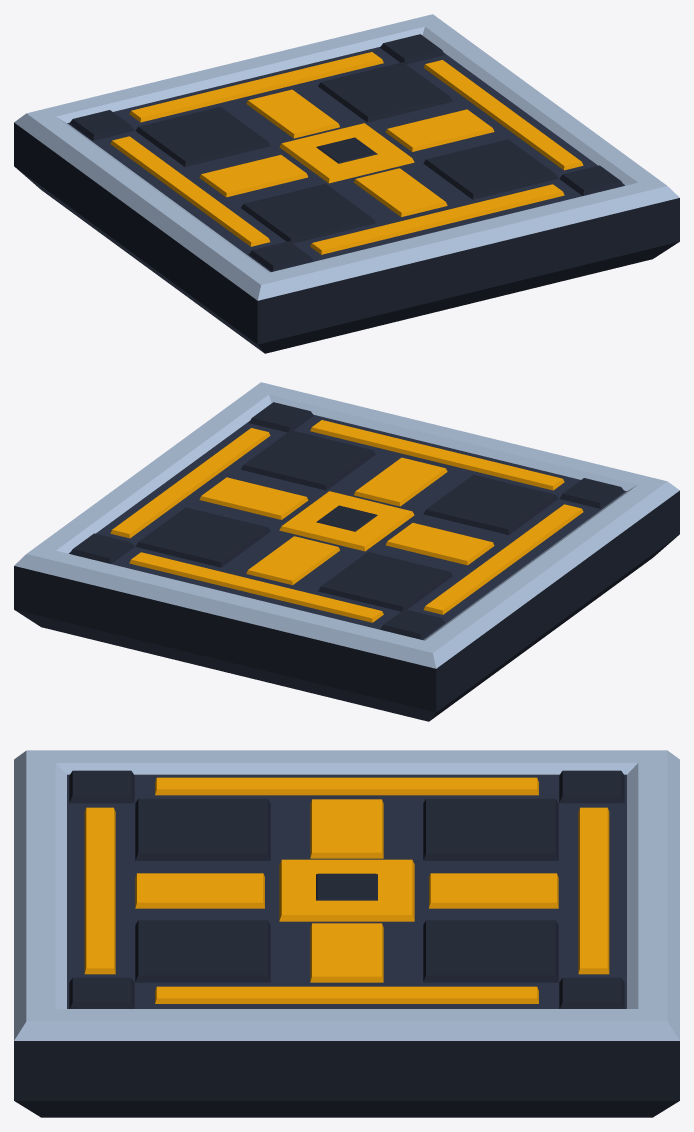
File: SM_ArenaTile_02_Warning.obj
The picture shows the model from 3 angles, top to bottom: view 1: azimuth 30°, elevation 25°; view 2: azimuth 150°, elevation 25°; view 3: azimuth 270°, elevation 25°; orthographic projection. The views are drawn at different scales.
Visible parts, largest first — view 1: SM_ArenaTile_02_Warning__MAT_DarkNeutral, SM_ArenaTile_02_Warning__MAT_LightTrim, SM_ArenaTile_02_Warning__EMI_Amber, SM_ArenaTile_02_Warning__MAT_AltNeutral; view 2: SM_ArenaTile_02_Warning__MAT_DarkNeutral, SM_ArenaTile_02_Warning__MAT_LightTrim, SM_ArenaTile_02_Warning__EMI_Amber, SM_ArenaTile_02_Warning__MAT_AltNeutral; view 3: SM_ArenaTile_02_Warning__MAT_DarkNeutral, SM_ArenaTile_02_Warning__MAT_LightTrim, SM_ArenaTile_02_Warning__EMI_Amber, SM_ArenaTile_02_Warning__MAT_AltNeutral.
Part boxes in pixels (bbox=[...]): SM_ArenaTile_02_Warning__MAT_DarkNeutral: bbox=[14, 34, 679, 353]; SM_ArenaTile_02_Warning__MAT_LightTrim: bbox=[14, 14, 679, 300]; SM_ArenaTile_02_Warning__EMI_Amber: bbox=[110, 52, 583, 254]; SM_ArenaTile_02_Warning__MAT_AltNeutral: bbox=[67, 46, 624, 271]; SM_ArenaTile_02_Warning__MAT_DarkNeutral: bbox=[14, 402, 679, 721]; SM_ArenaTile_02_Warning__MAT_LightTrim: bbox=[14, 382, 679, 668]; SM_ArenaTile_02_Warning__EMI_Amber: bbox=[110, 420, 583, 622]; SM_ArenaTile_02_Warning__MAT_AltNeutral: bbox=[69, 414, 626, 639]; SM_ArenaTile_02_Warning__MAT_DarkNeutral: bbox=[14, 770, 679, 1117]; SM_ArenaTile_02_Warning__MAT_LightTrim: bbox=[14, 750, 679, 1040]; SM_ArenaTile_02_Warning__EMI_Amber: bbox=[84, 777, 609, 1003]; SM_ArenaTile_02_Warning__MAT_AltNeutral: bbox=[67, 774, 626, 1008].
Size of the model in its own units: 11.8 by 2 by 11.8.
Materials: 4 (4 with a texture image).
